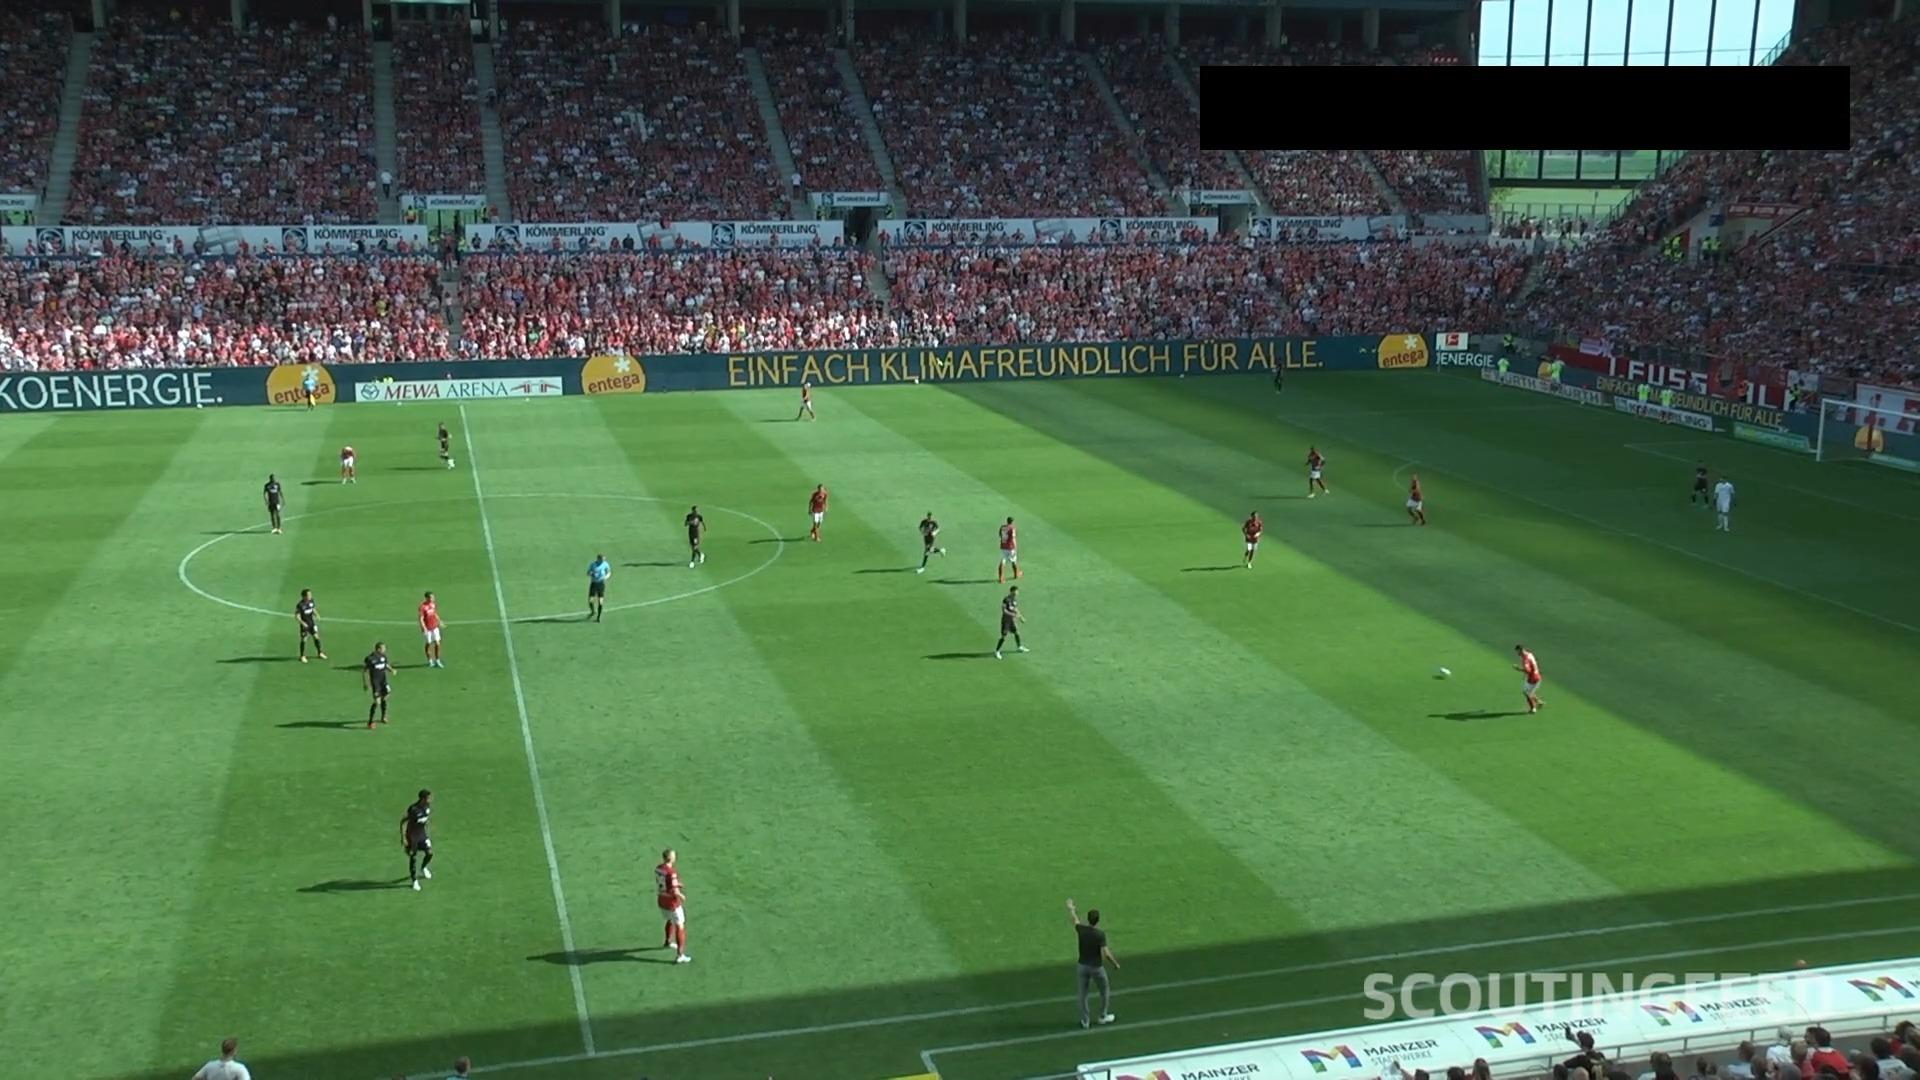ball: (1437, 666, 1452, 679)
